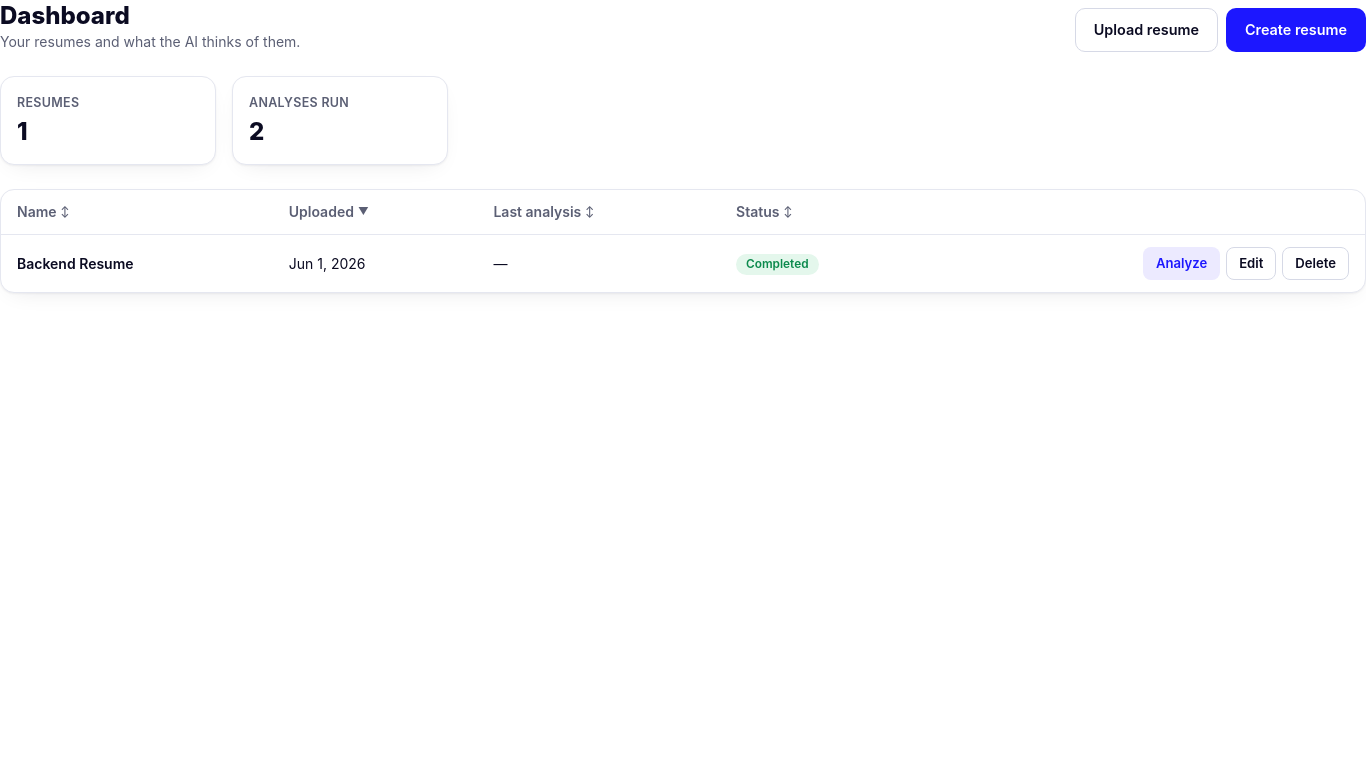
Test: dashboard (issue #67 / 8.3) › delete: confirm -> optimistic removal -> rollback + toast on API failure
Expected: the link "Backend Resume" is shown, [17, 255, 134, 272]
Step 1. Click the button "Delete" → (1316, 264), box [1282, 247, 1349, 280]
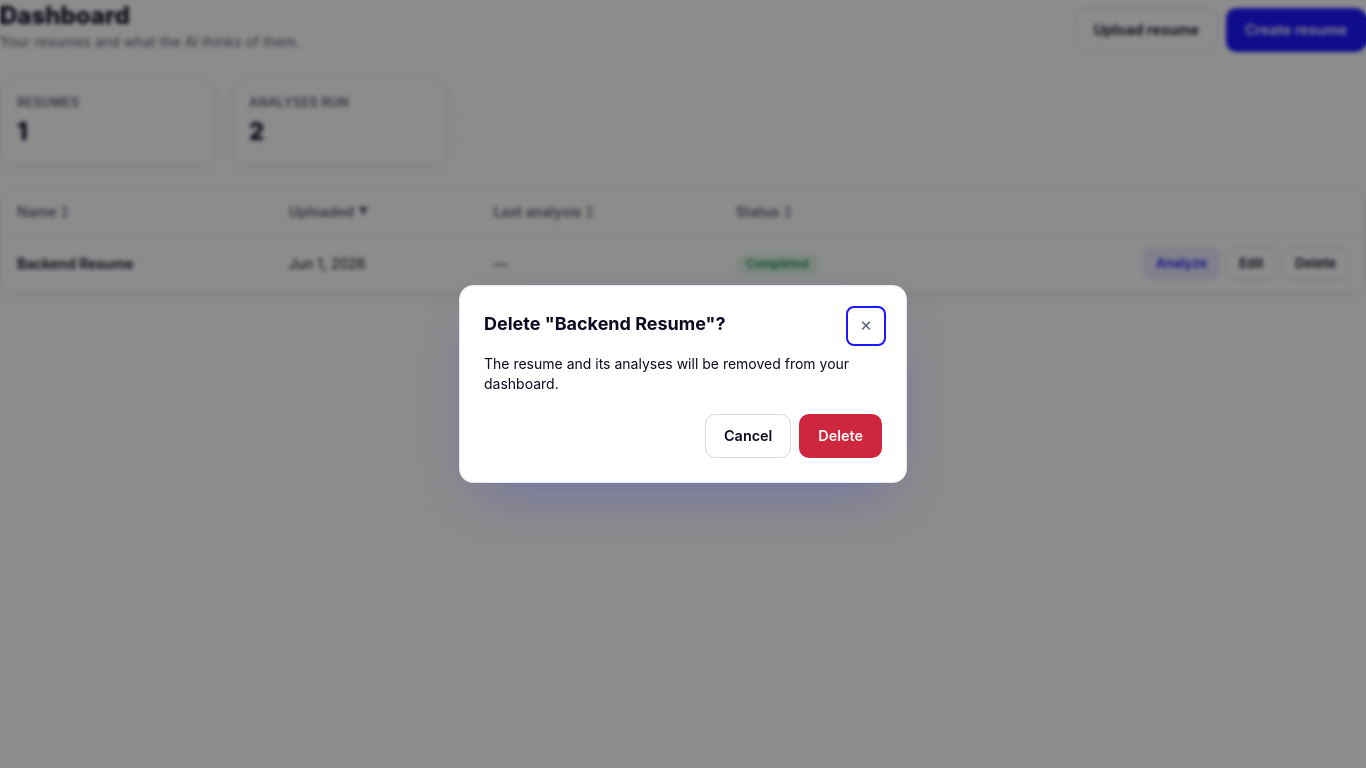
Step 2. Click the button "Delete" → (841, 436), box [799, 414, 882, 458]
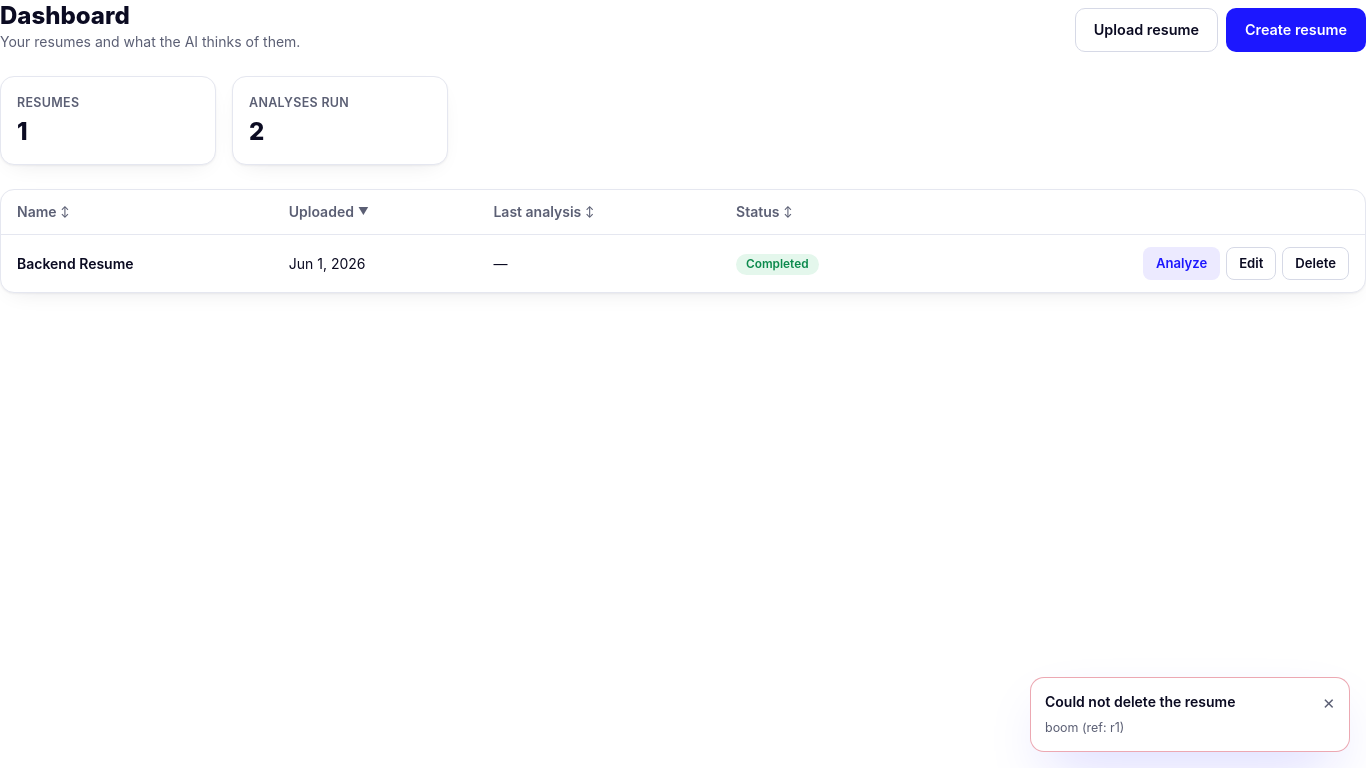
Expected: the link "Backend Resume" is shown, [17, 255, 134, 272]
Result: the text "Could not delete the resume" is shown at [1045, 692, 1236, 712]
